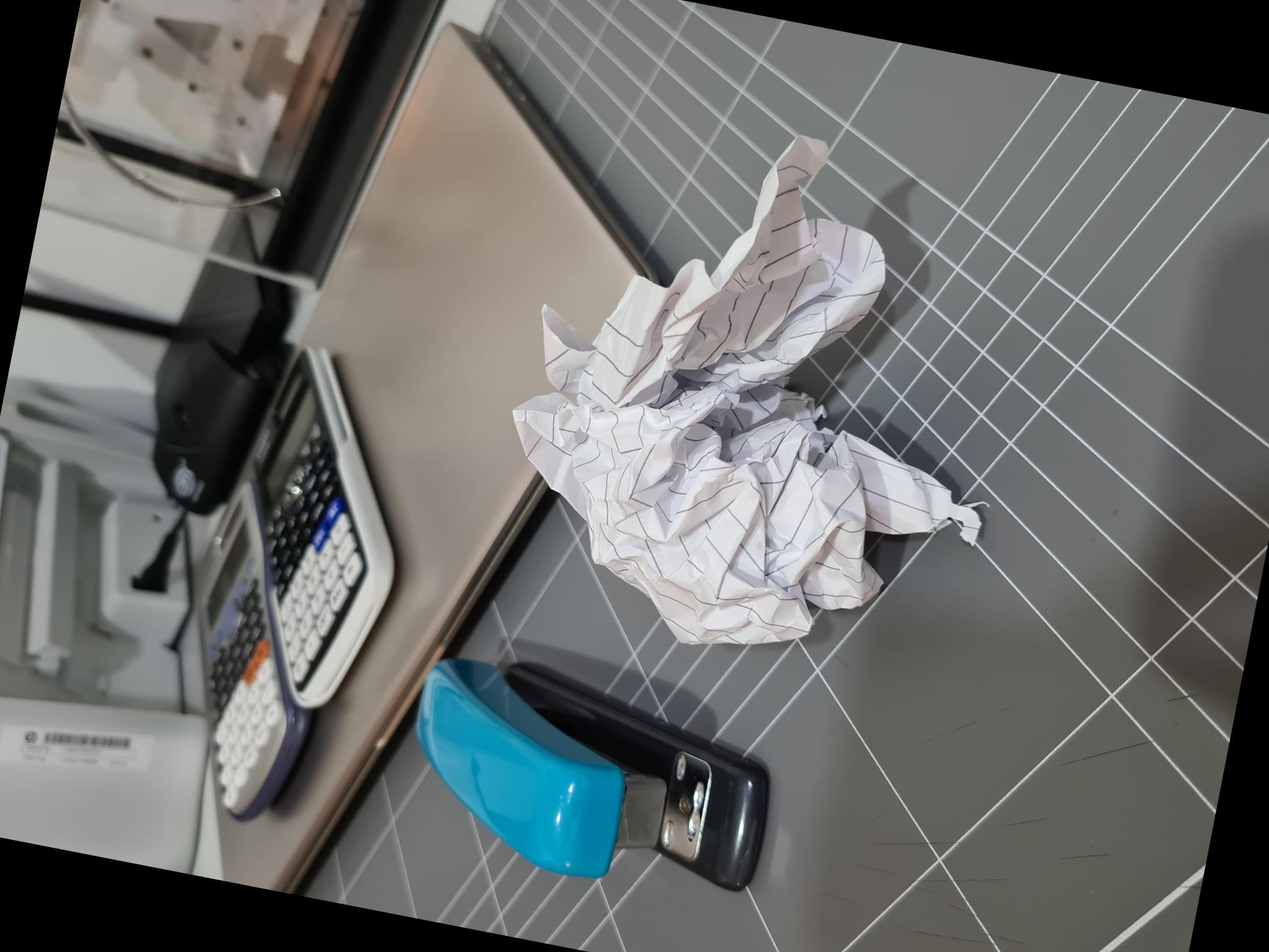Kertas: (271, 490, 790, 921)
